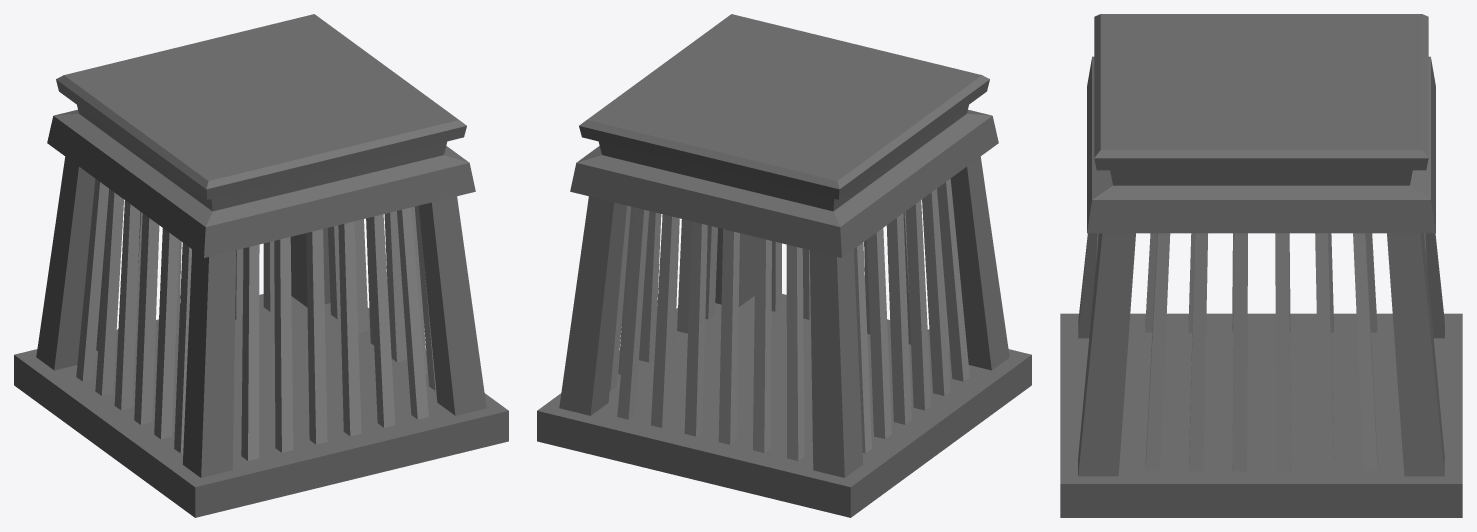
File: LPCP_Cage22.fbx
3 renders of one model, left to right at view 1: azimuth 30°, elevation 25°; view 2: azimuth 150°, elevation 25°; view 3: azimuth 270°, elevation 25°, orthographic. The views are drawn at different scales.
Visible parts, largest first — view 1: LPCP_Cage22; view 2: LPCP_Cage22; view 3: LPCP_Cage22.
Part boxes in pixels (bbox=[...]): LPCP_Cage22: bbox=[14, 14, 508, 517]; LPCP_Cage22: bbox=[537, 14, 1031, 517]; LPCP_Cage22: bbox=[1060, 14, 1462, 517].
Size of the model in its own units: 2.42 by 2.33 by 2.42.
